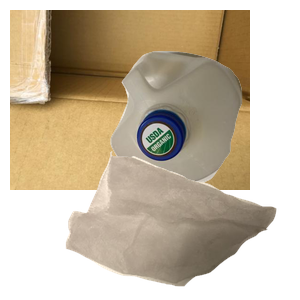cardboard: (10, 10, 250, 190)
glass: (102, 181, 246, 300)
plastic: (108, 49, 300, 226)
trash: (63, 149, 300, 300)
